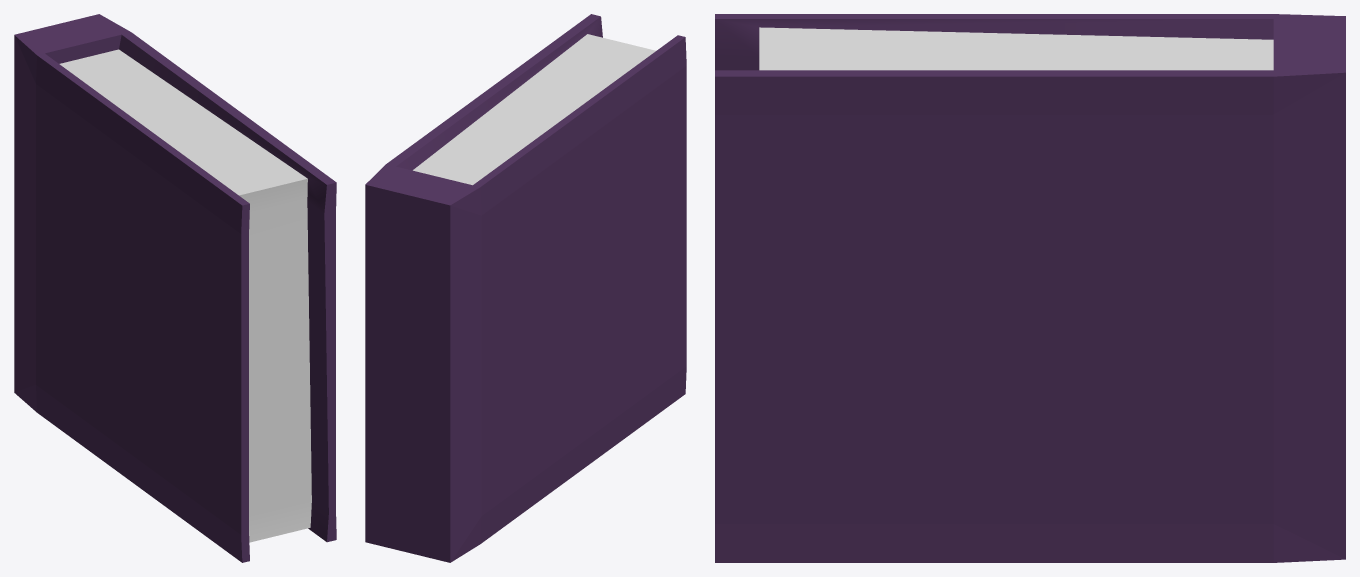
File: Small_Book_Purple.fbx
The picture shows the model from 3 angles, left to right: view 1: azimuth 30°, elevation 25°; view 2: azimuth 150°, elevation 25°; view 3: azimuth 270°, elevation 25°; orthographic projection. The views are drawn at different scales.
Visible parts, largest first — view 1: Book5; view 2: Book5; view 3: Book5.
Boxes of the visible parts, x1,y1,x2,y2 form: Book5: (14, 14, 336, 562); Book5: (365, 14, 686, 562); Book5: (715, 14, 1345, 562).
Size of the model in its own units: 0.0717 by 0.2566 by 0.3014.
